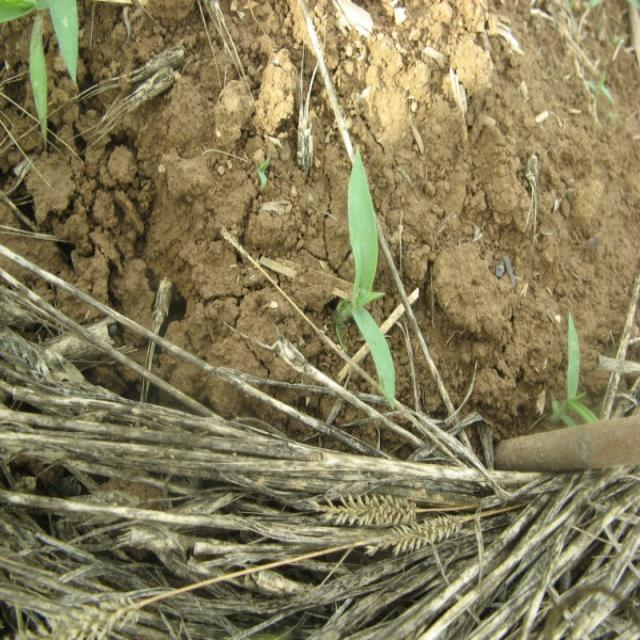bg: (333, 144, 407, 406)
